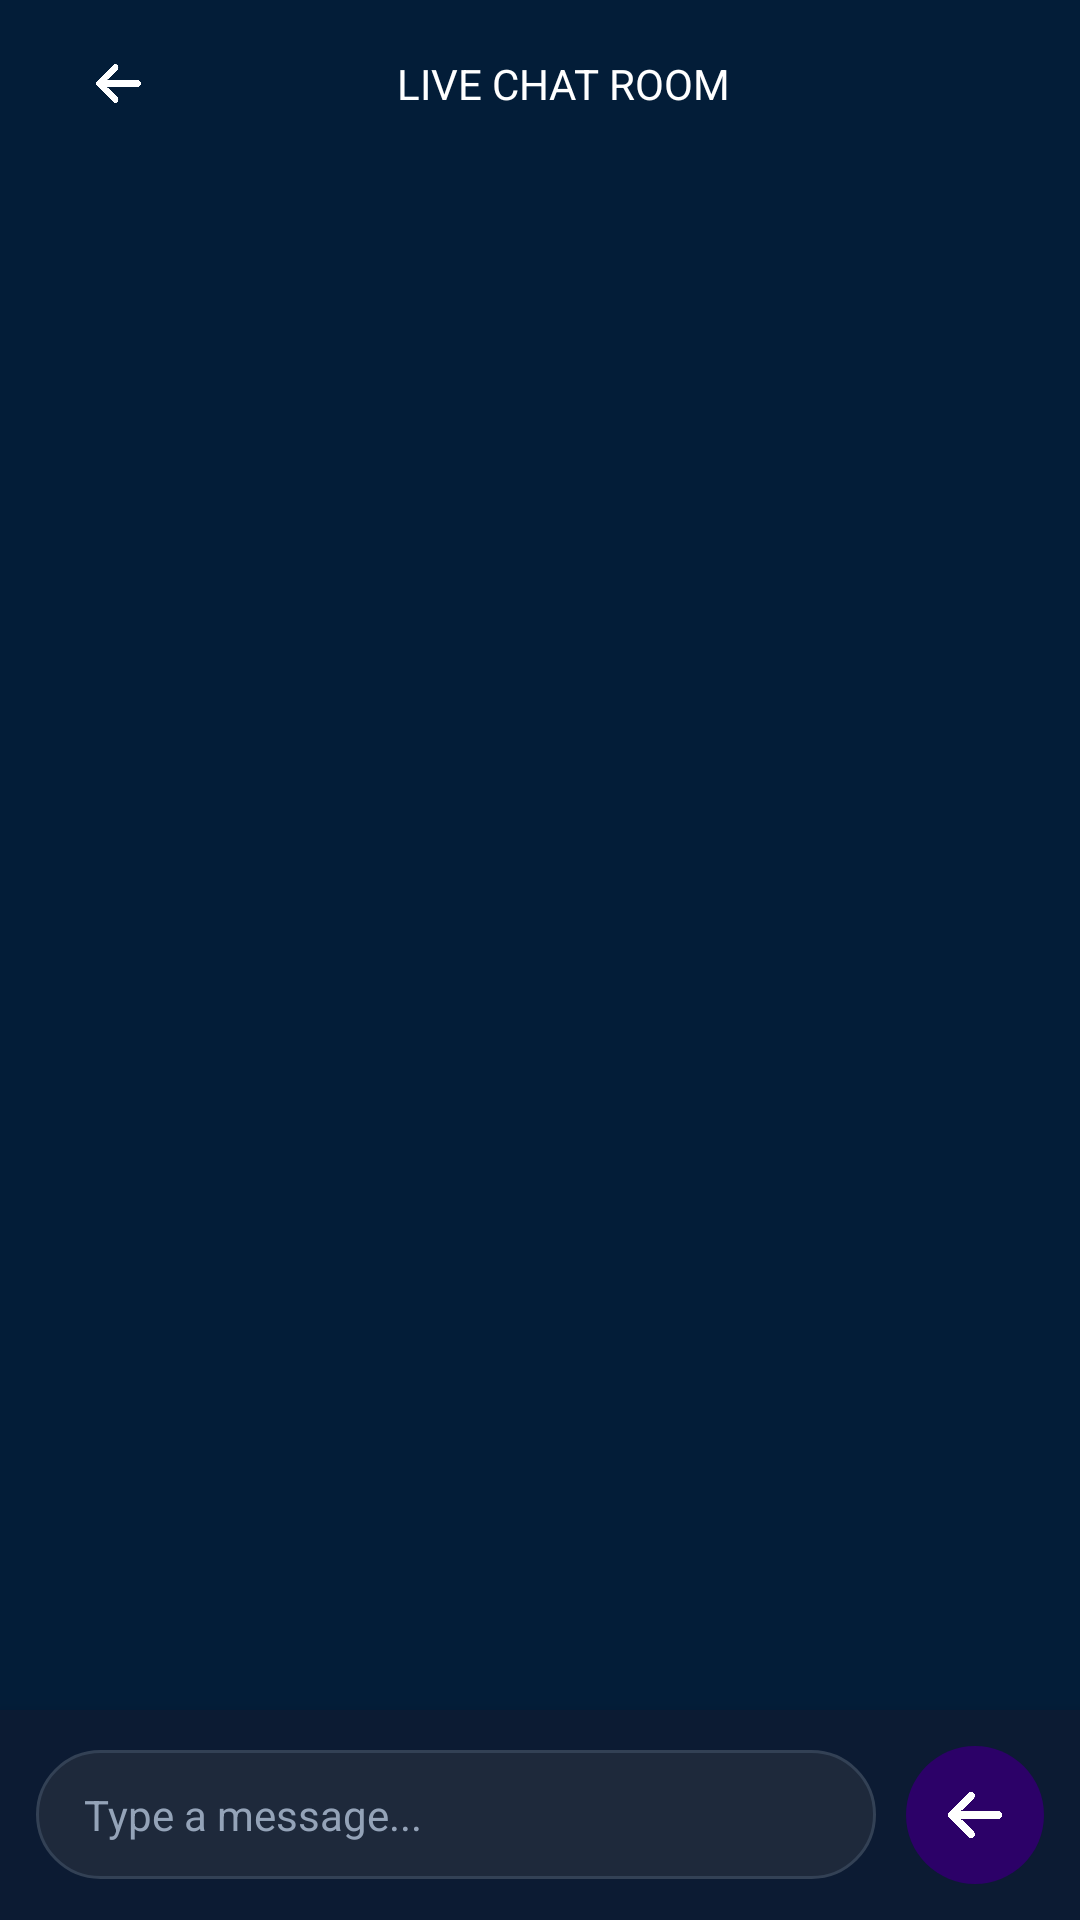

Point at icon controls on the screen. Image size 1080*1920, points as point (x, y).
Back: point (118, 83)
